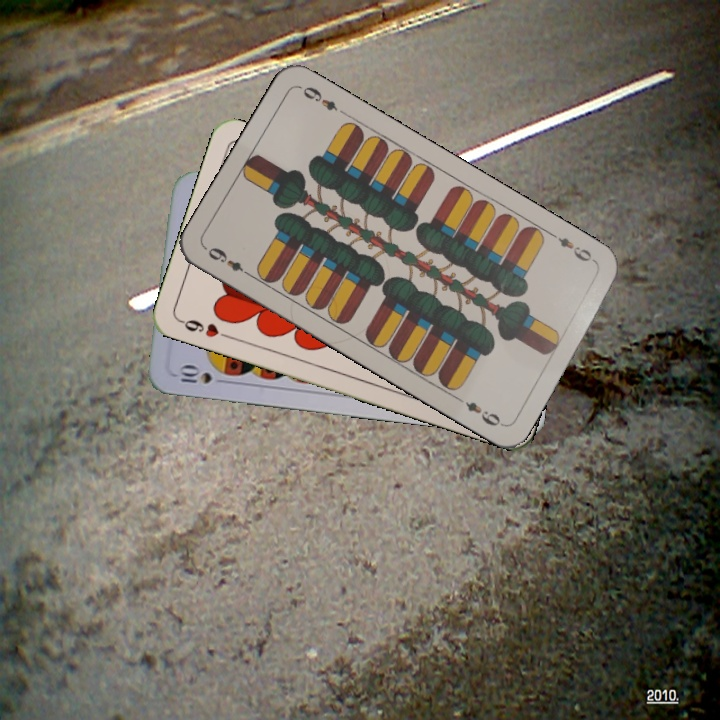E9: (547, 229, 600, 267), (203, 243, 255, 280)
H9: (176, 315, 233, 342)
S10: (176, 362, 231, 387)
